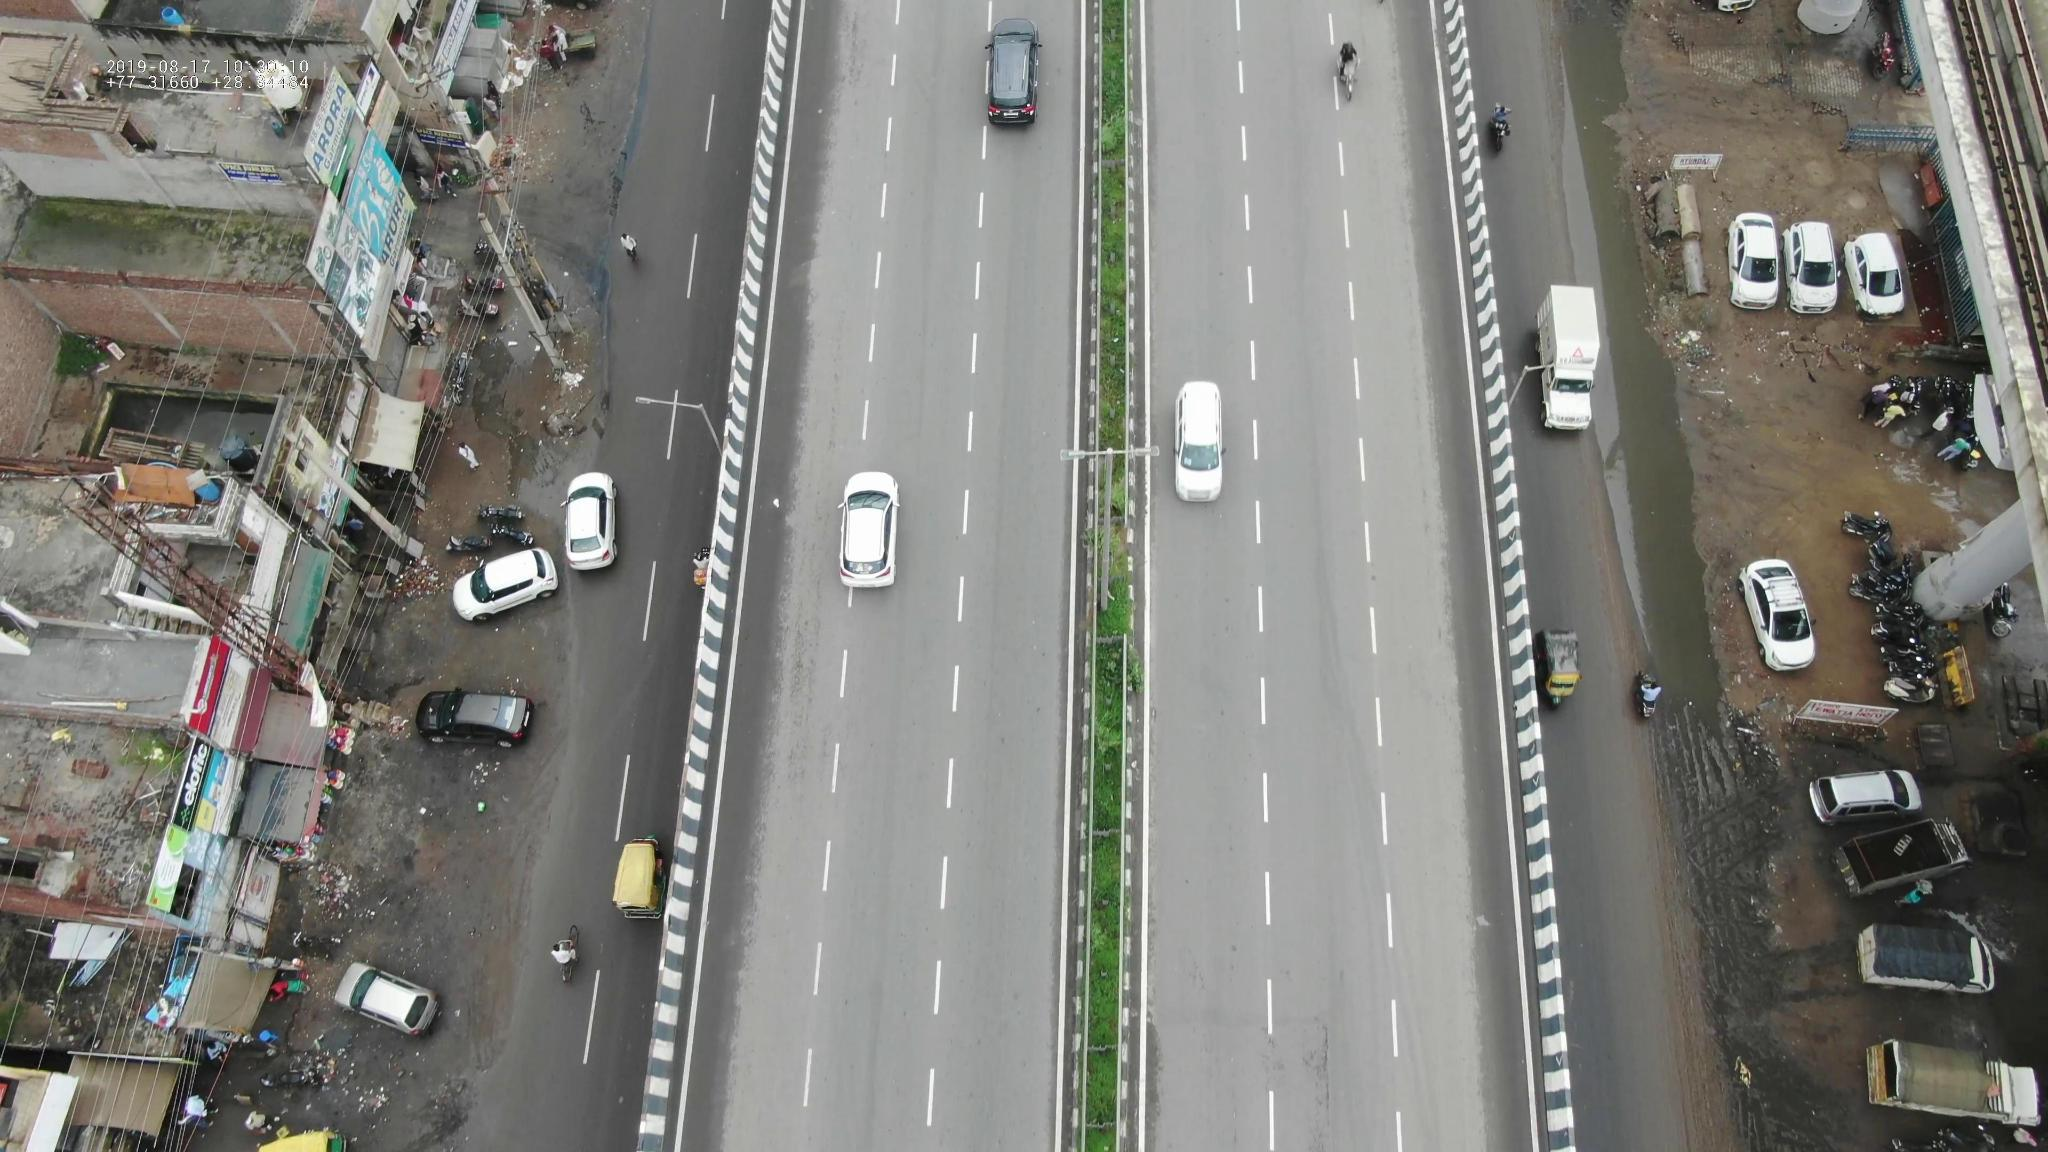Muddy_road: (1679, 775, 1802, 1051)
Ravelling: (778, 560, 833, 779)
Waterlogging: (1591, 376, 1733, 693), (1550, 13, 1677, 322)
